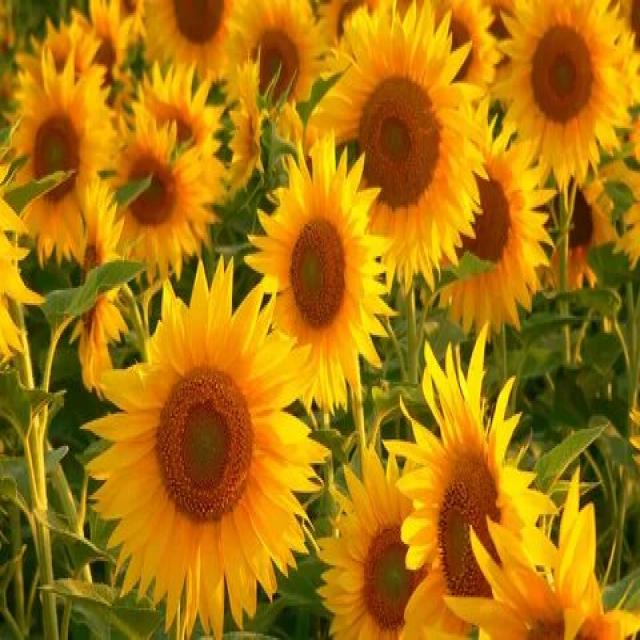sunflower: (78, 263, 330, 632), (303, 2, 497, 301), (389, 352, 564, 631), (248, 172, 400, 410), (490, 6, 640, 172), (82, 111, 210, 284), (6, 51, 110, 260)
